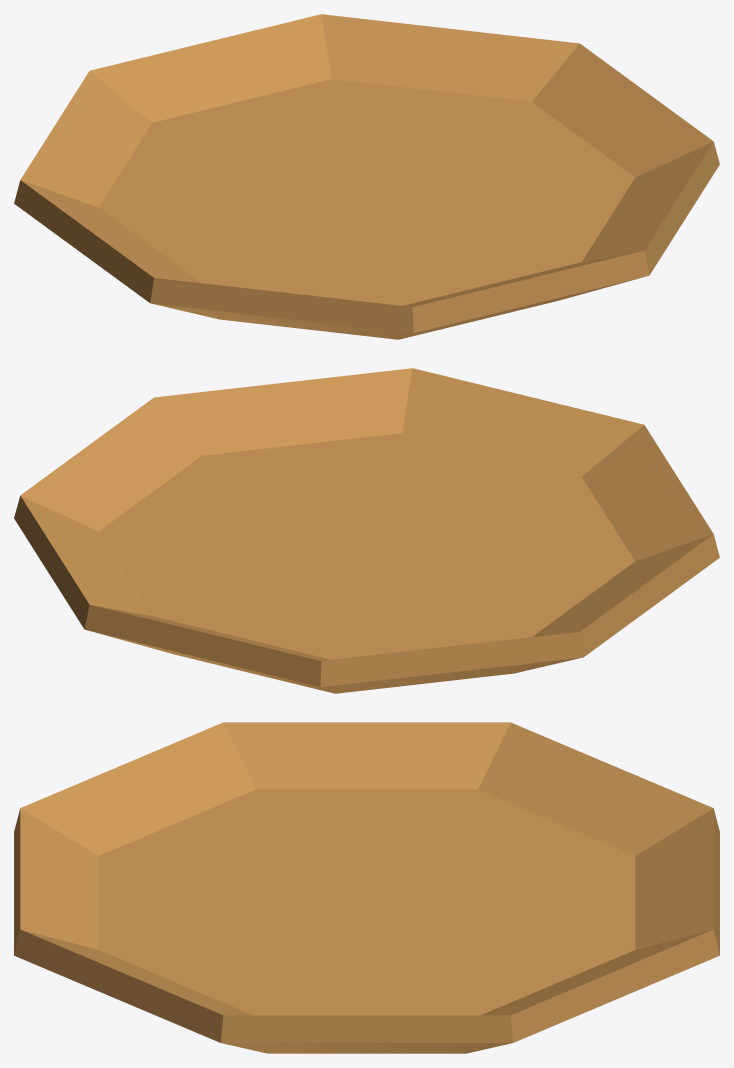
The model's file is SM_Prop_Gold_Plate_01.fbx.
3 views of the same model, one above another, from view 1: azimuth 30°, elevation 25°; view 2: azimuth 150°, elevation 25°; view 3: azimuth 270°, elevation 25° (orthographic). The views are drawn at different scales.
Parts seen in each view (by area): view 1: SM_Prop_Gold_Plate_01; view 2: SM_Prop_Gold_Plate_01; view 3: SM_Prop_Gold_Plate_01.
Boxes of the visible parts, bbox=[...] form: SM_Prop_Gold_Plate_01: bbox=[14, 14, 719, 339]; SM_Prop_Gold_Plate_01: bbox=[14, 368, 719, 693]; SM_Prop_Gold_Plate_01: bbox=[14, 722, 719, 1053].
Size of the model in its own units: 60.24 by 7.85 by 60.24.
